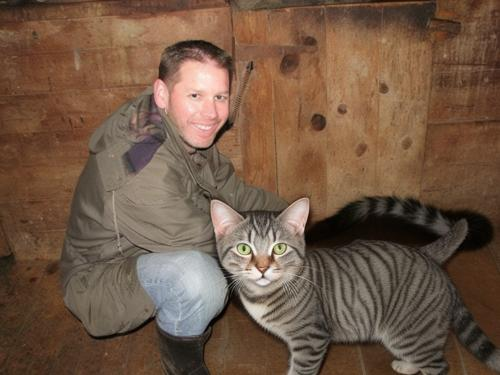cat: (201, 195, 500, 375)
person: (60, 40, 353, 375)
person/hand: (308, 244, 351, 273), (296, 209, 325, 235)
person/head: (152, 38, 233, 148)
